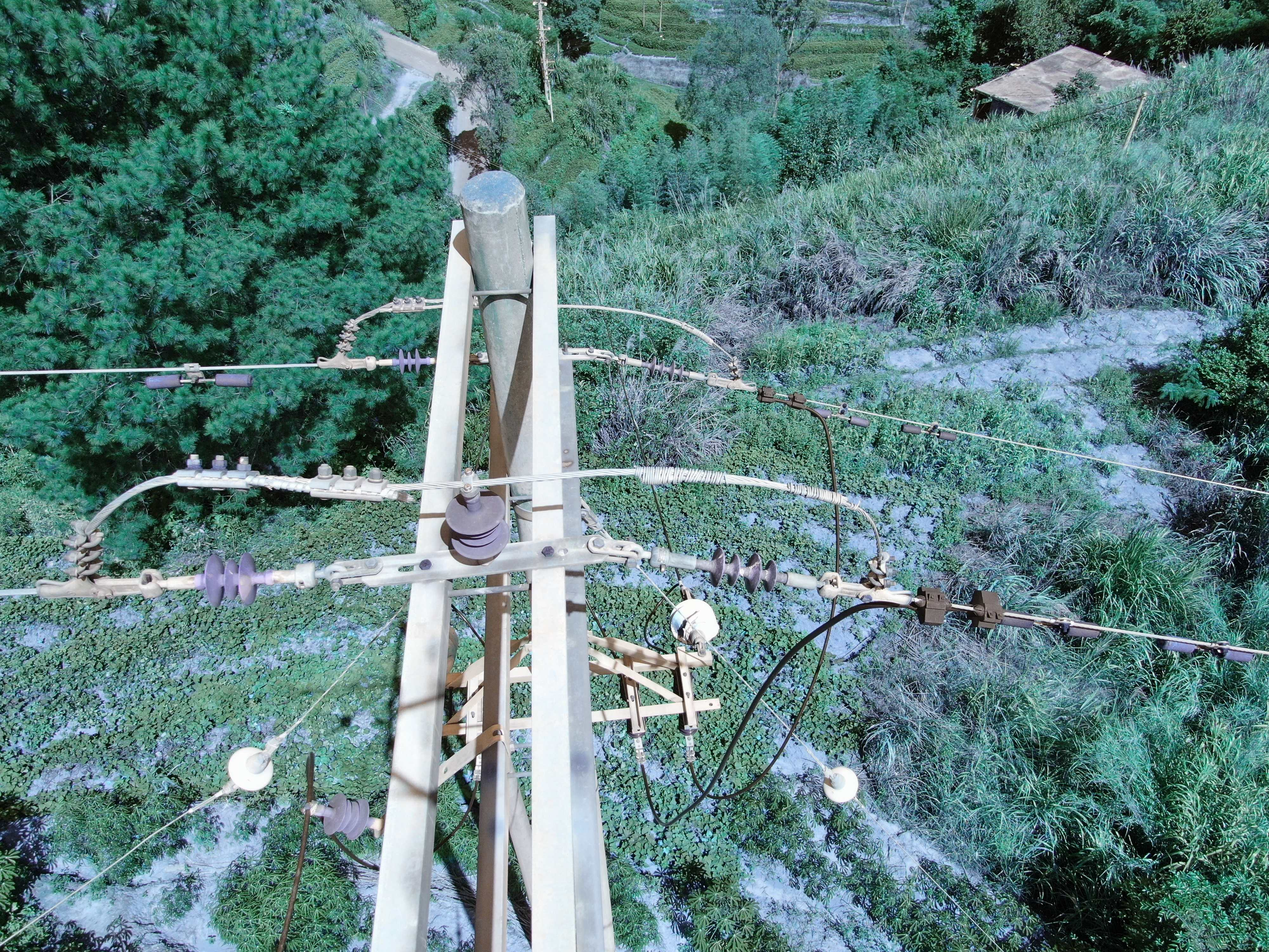severe_soiling_no_discharge_whole: (694, 543, 788, 596)
